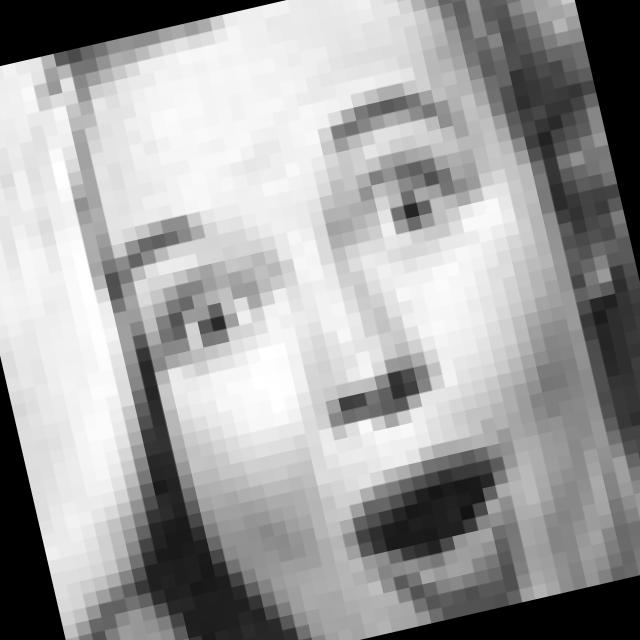surprise: (84, 70, 585, 640)
